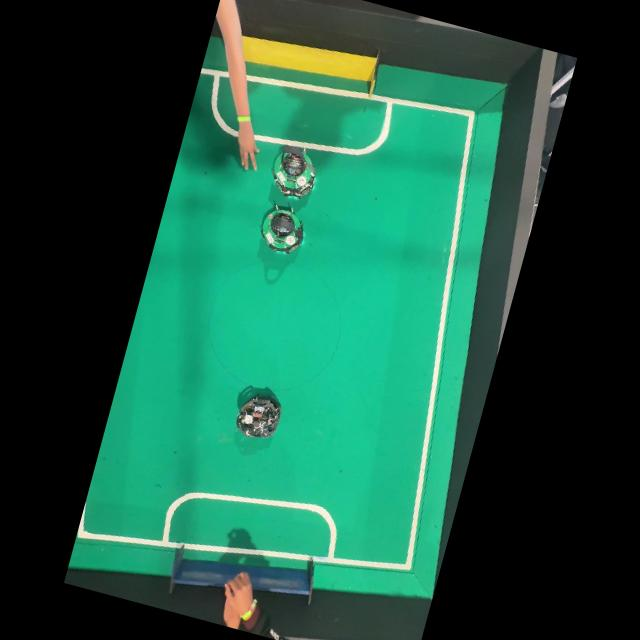goal: (169, 545, 313, 604), (243, 37, 378, 93)
robot: (272, 145, 315, 199), (260, 204, 303, 253), (236, 394, 280, 438)
